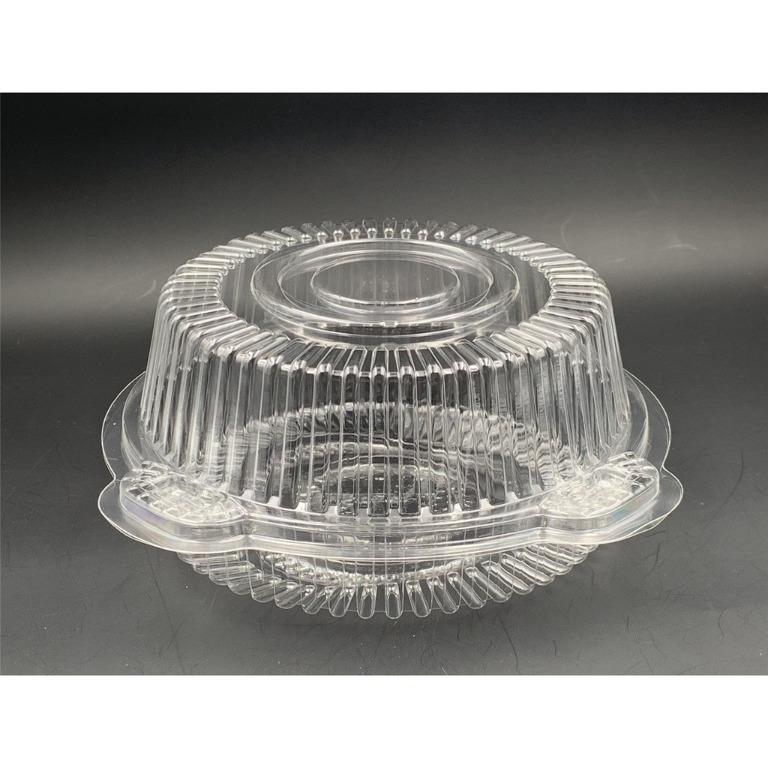plastic: (96, 215, 685, 621)
